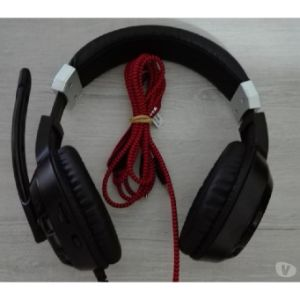headset: (9, 22, 276, 280)
